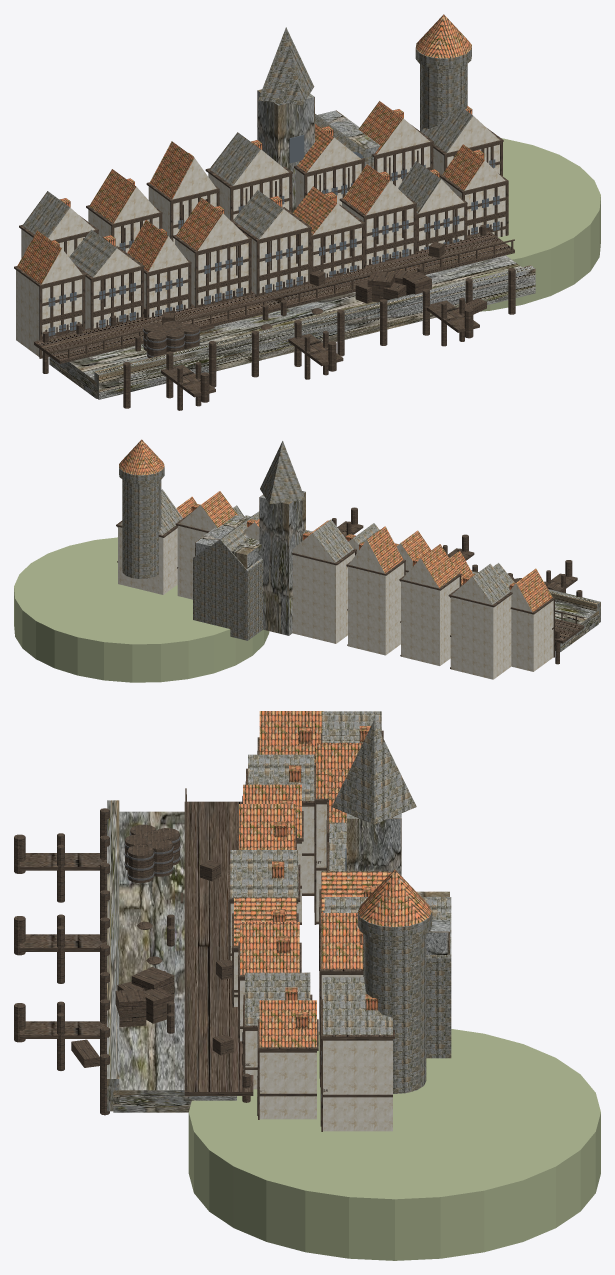
Rendered from puerto-medieval.glb.
3 views of the same model, one above another, from view 1: azimuth 30°, elevation 25°; view 2: azimuth 150°, elevation 25°; view 3: azimuth 270°, elevation 25° (orthographic). The views are drawn at different scales.
Visible parts, largest first — view 1: colina, cantil, pasarela, muelle, casa, casa.003, casa.004, casa.012, casa.001, casa.006, casa.011, iglcampanil (+20 smaller); view 2: colina, casa.012, casa.016, casa.009, casa.011, casa.010, iglcampanil, casa, torre, casa.014, casa.015, aguja (+9 smaller); view 3: colina, muelle, pasarela, casa.015, torre, casa.008, aguja, casa.016, cantil, casa.004, casa.001, casa.006 (+21 smaller).
Part boxes in pixels (x1=…): colina: x1=480, y1=138, x2=600, y2=311; cantil: x1=94, y1=265, x2=535, y2=399; pasarela: x1=34, y1=231, x2=514, y2=363; muelle: x1=49, y1=255, x2=521, y2=398; casa: x1=16, y1=230, x2=82, y2=356; casa.003: x1=175, y1=198, x2=248, y2=305; casa.004: x1=233, y1=190, x2=308, y2=294; casa.012: x1=208, y1=132, x2=289, y2=219; casa.001: x1=69, y1=229, x2=140, y2=328; casa.006: x1=342, y1=164, x2=413, y2=264; casa.011: x1=148, y1=141, x2=216, y2=243; iglcampanil: x1=257, y1=89, x2=314, y2=212; colina: x1=14, y1=537, x2=269, y2=682; casa.012: x1=292, y1=519, x2=354, y2=643; casa.016: x1=193, y1=511, x2=262, y2=640; casa.009: x1=450, y1=563, x2=511, y2=679; casa.011: x1=348, y1=526, x2=404, y2=655; casa.010: x1=401, y1=544, x2=459, y2=665; iglcampanil: x1=259, y1=491, x2=305, y2=635; casa: x1=510, y1=568, x2=553, y2=671; torre: x1=122, y1=480, x2=161, y2=578; casa.014: x1=177, y1=491, x2=237, y2=599; casa.015: x1=118, y1=489, x2=182, y2=594; aguja: x1=260, y1=441, x2=305, y2=504; colina: x1=188, y1=1029, x2=600, y2=1260; muelle: x1=113, y1=811, x2=236, y2=1112; pasarela: x1=184, y1=801, x2=253, y2=1095; casa.015: x1=323, y1=977, x2=392, y2=1131; torre: x1=363, y1=933, x2=426, y2=1093; casa.008: x1=259, y1=1000, x2=316, y2=1119; aguja: x1=332, y1=720, x2=416, y2=824; casa.016: x1=324, y1=897, x2=451, y2=1058; cantil: x1=107, y1=800, x2=119, y2=1111; casa.004: x1=230, y1=850, x2=298, y2=960; casa.001: x1=248, y1=754, x2=314, y2=893; casa.006: x1=240, y1=922, x2=299, y2=1041.
Size of the model in its own units: 66 by 27.98 by 42.72.
Materials: 12 (9 with a texture image).
